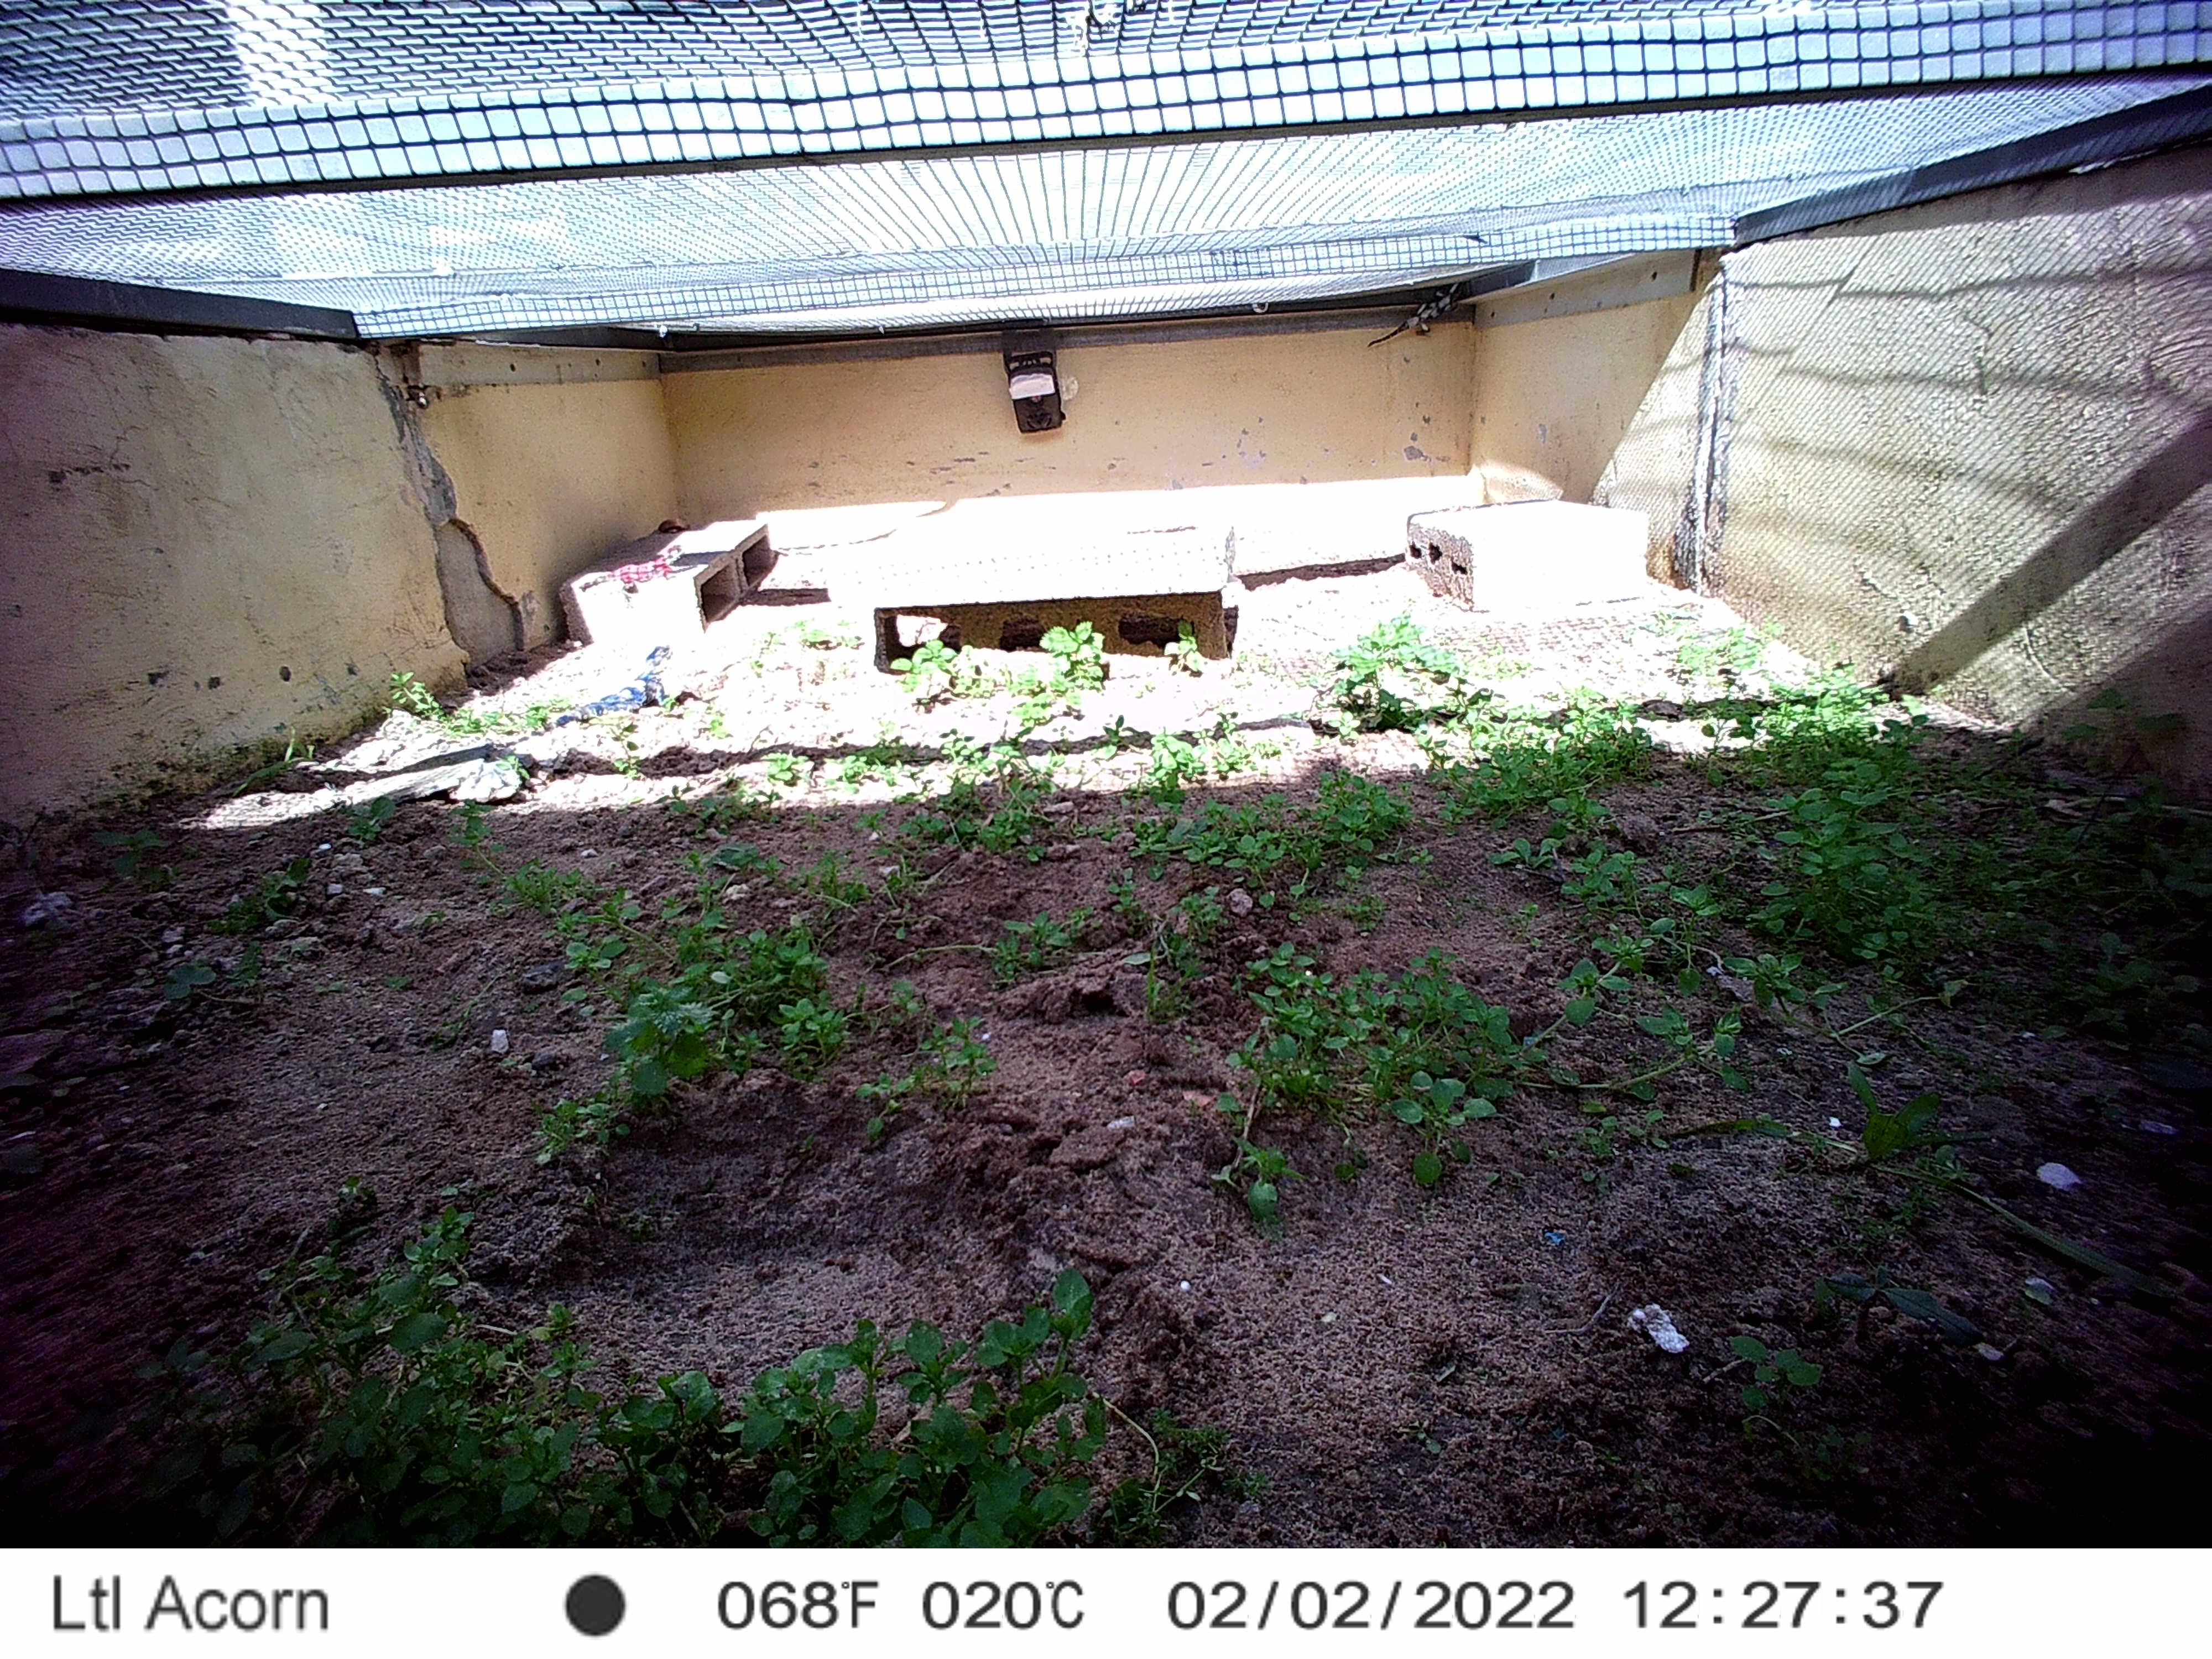lizard: (495, 638, 683, 756), (573, 538, 688, 615), (1362, 282, 1468, 356)
